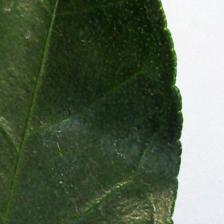healthy: (1, 1, 183, 224)
